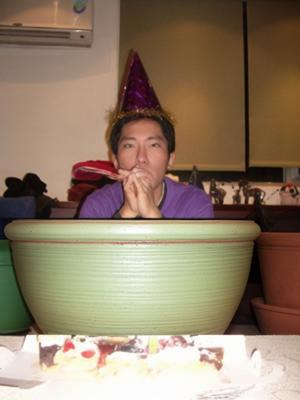person: (42, 51, 237, 334)
pottedplant: (2, 217, 300, 334)
